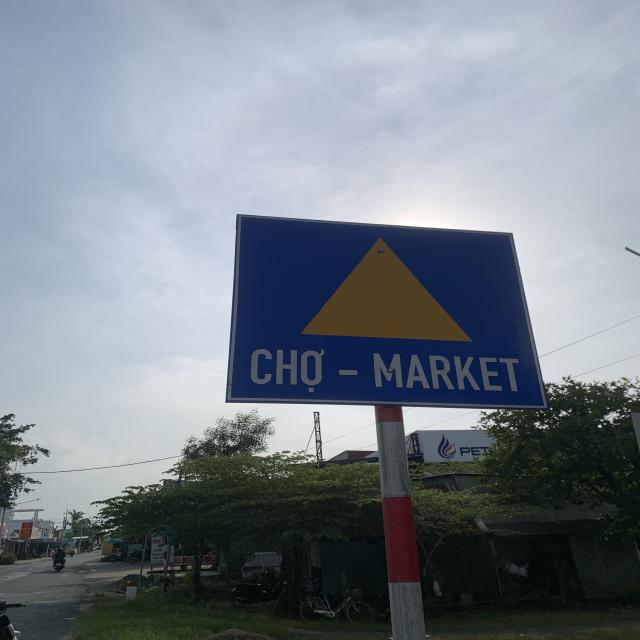Cho_Quay_Xe: (229, 217, 543, 406)
